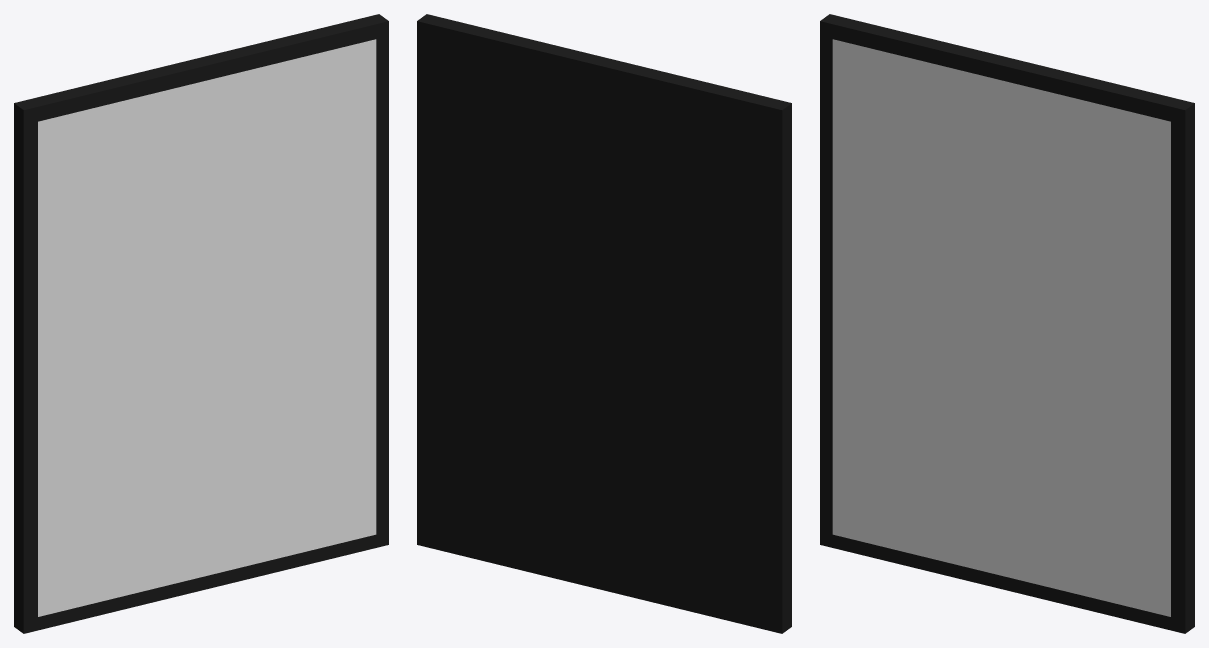
File: framed-poster-black.glb
3 renders of one model, left to right at view 1: azimuth 30°, elevation 25°; view 2: azimuth 150°, elevation 25°; view 3: azimuth 330°, elevation 25°, orthographic.
Visible parts, largest first — view 1: FramedPoster; view 2: FramedPoster; view 3: FramedPoster.
Boxes of the visible parts, x1,y1,x2,y2 form: FramedPoster: [14, 14, 388, 633]; FramedPoster: [417, 14, 791, 633]; FramedPoster: [820, 14, 1194, 633].
Bounding box in the file's own units: 0.54 × 0.74 × 0.027.
2 materials, 1 textured.
